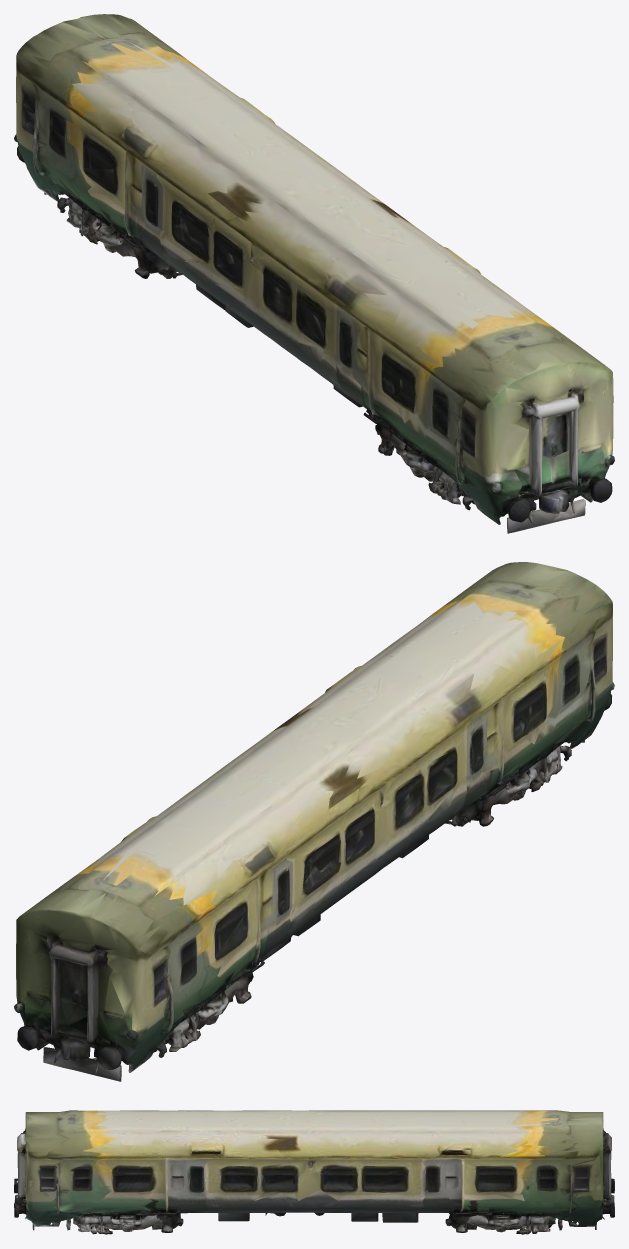
Rendered from m-night.glb.
3 views of the same model, one above another, from view 1: azimuth 30°, elevation 25°; view 2: azimuth 150°, elevation 25°; view 3: azimuth 270°, elevation 25° (orthographic). The views are drawn at different scales.
Visible parts, largest first — view 1: Mesh_0; view 2: Mesh_0; view 3: Mesh_0.
Boxes of the visible parts, x1,y1,x2,y2 form: Mesh_0: [14, 14, 614, 533]; Mesh_0: [14, 562, 614, 1081]; Mesh_0: [14, 1110, 614, 1234].
Size of the model in its own units: 0.3131 by 0.3583 by 1.9.
1 material, 1 textured.
